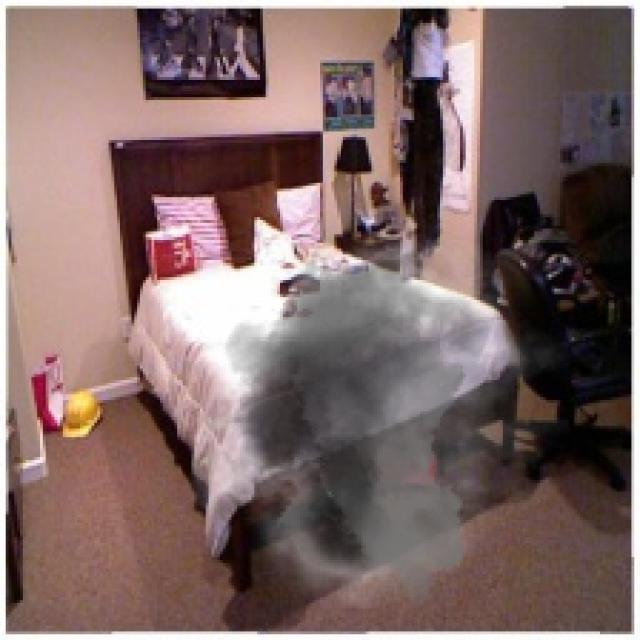Smoke: (172, 217, 572, 609)
